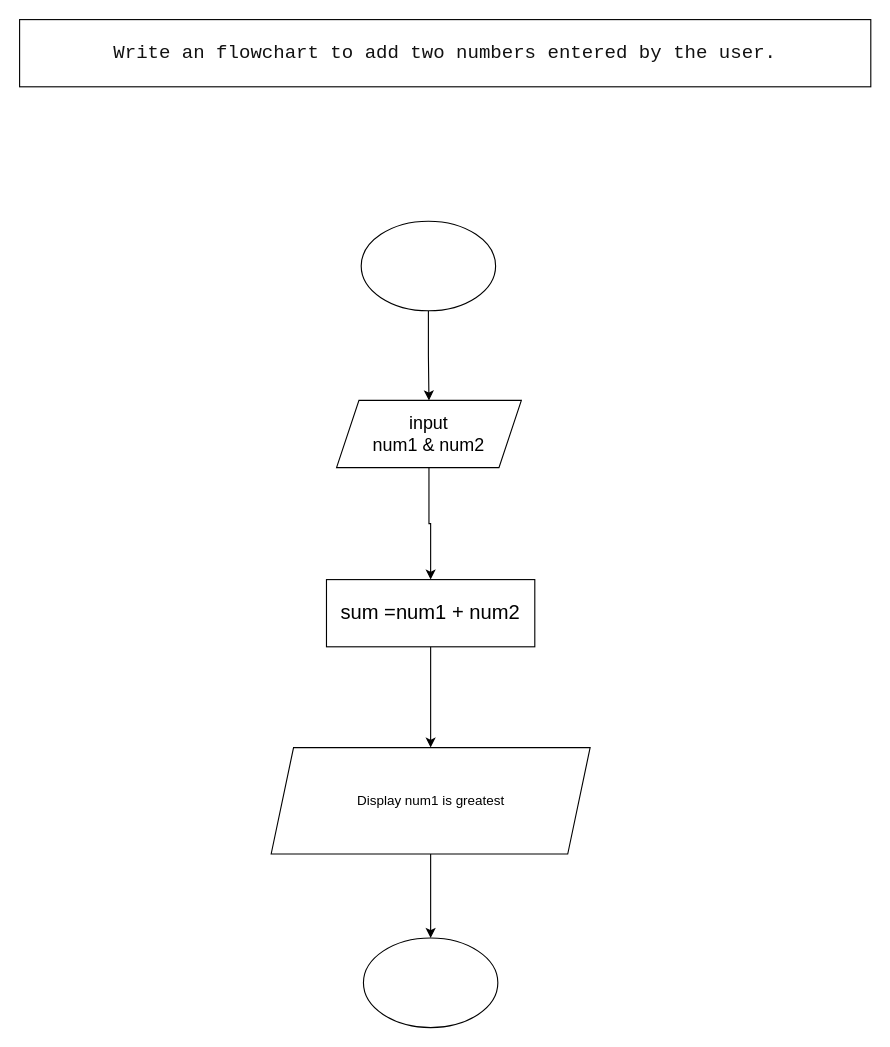
This 890x1047 diagram has some shape labels left out. Here are the shapes that lost their labels. From the top down, the centre of each, then its label:
At (x=428, y=265): "start".
At (x=430, y=982): "End".
